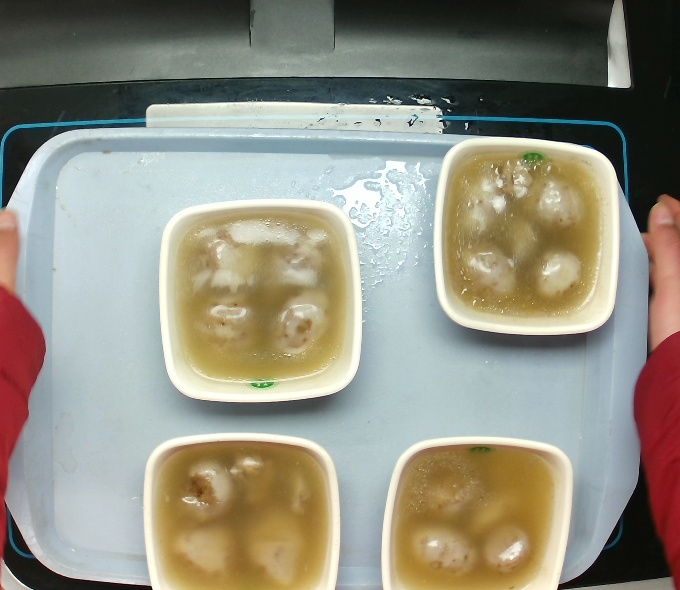wcq-YuTouTang: (174, 209, 351, 384), (445, 149, 605, 321), (153, 438, 333, 590), (394, 444, 556, 590)
